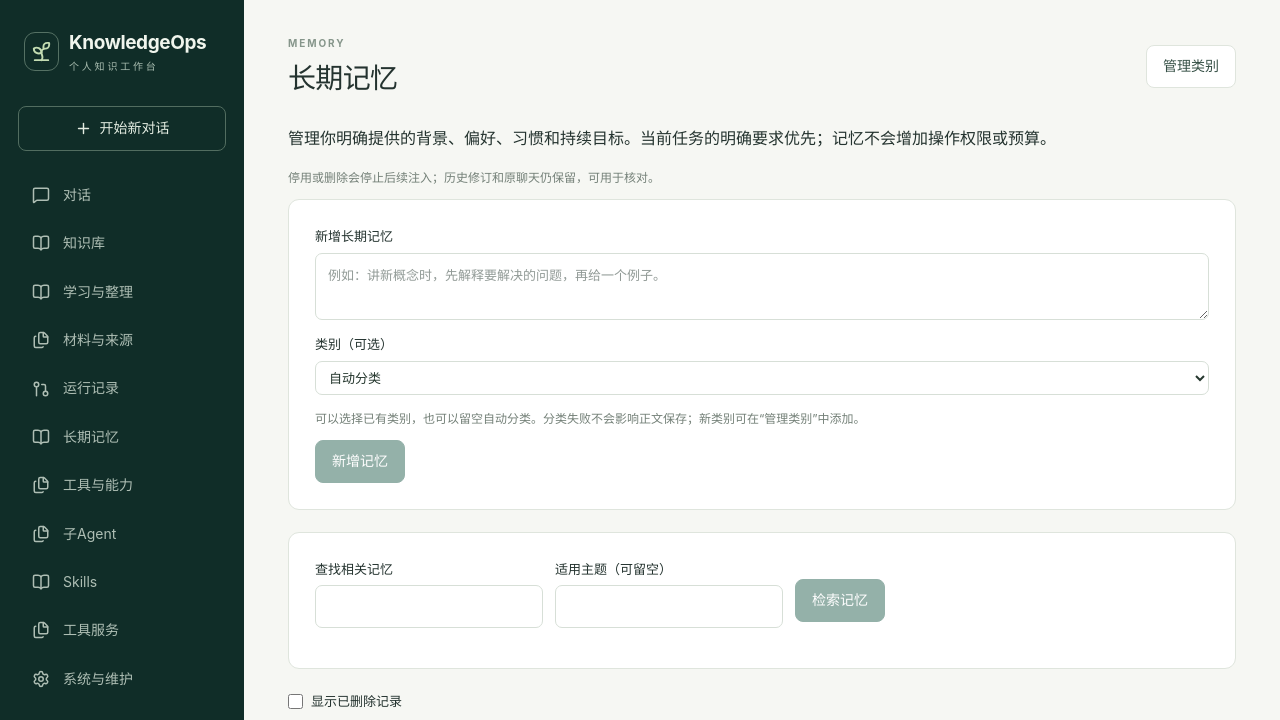
Test: opens a concise directory with optional templates and no forced role or inline form
The image size is (1280, 720).
Click the link "子Agent" at (74, 534), box 32,524 -> 116,543
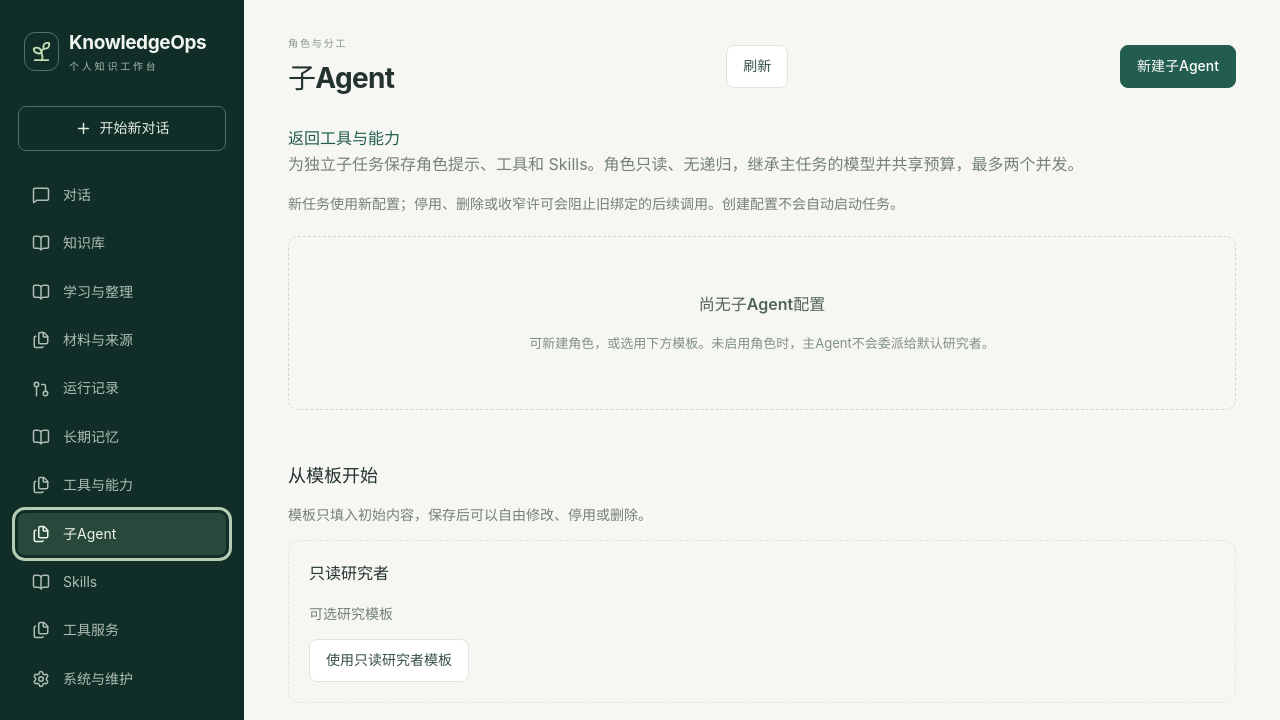
Expected: the heading "子Agent" is shown, 288,59 -> 394,98
Expected: the heading "尚无子Agent配置" is shown, 699,294 -> 825,314
Expected: the link "使用只读研究者模板" is shown, 309,640 -> 469,682
